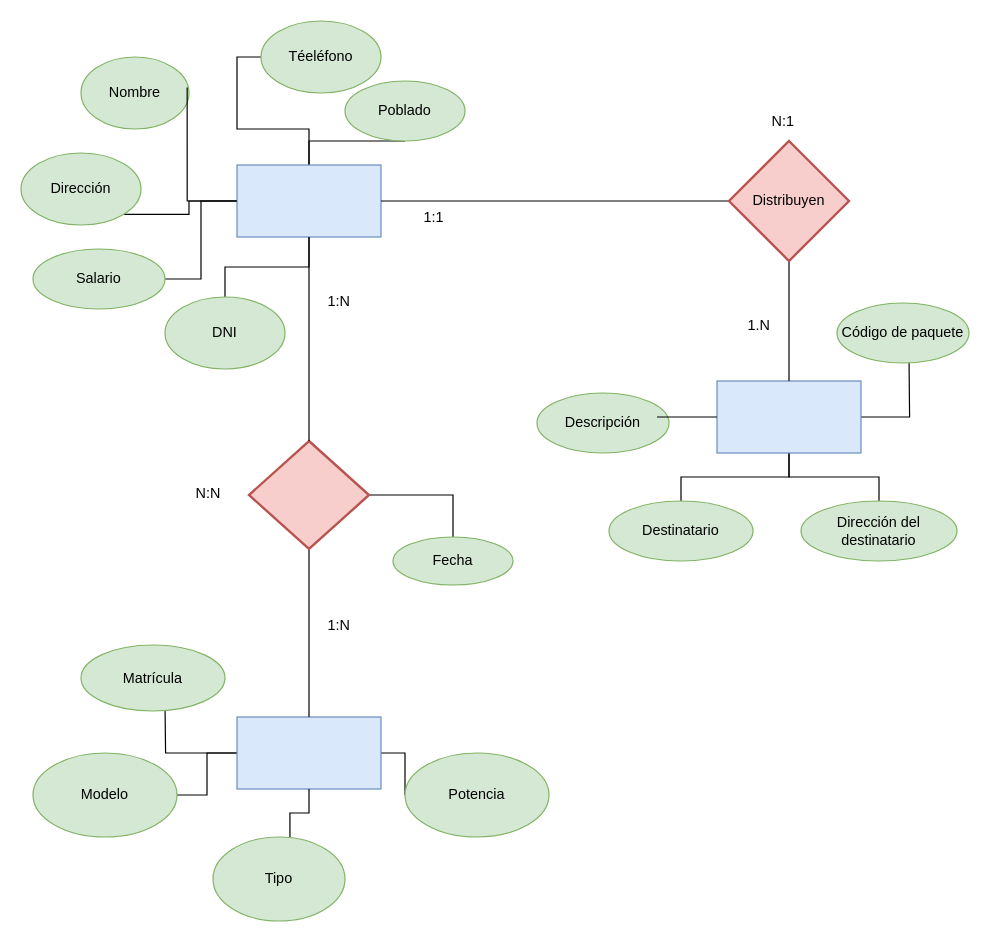
The diagram is 990 pixels wide and 942 high, and some of its shapes have lost their labels. The box of each missing label's shape, as (x1, y1, x2, y2) in pixels:
Camioneros: (236, 164, 381, 237)
Camión: (236, 716, 381, 789)
Conducen: (247, 439, 370, 550)
Paquetes: (716, 380, 861, 453)
